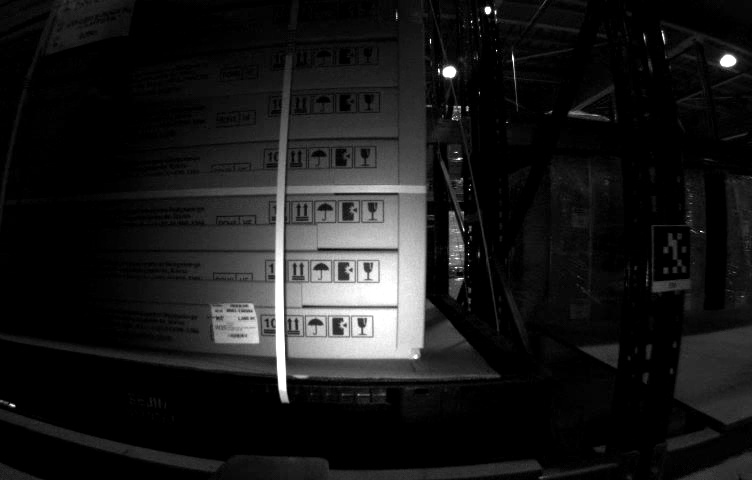True Barcode: (210, 302, 260, 343)
